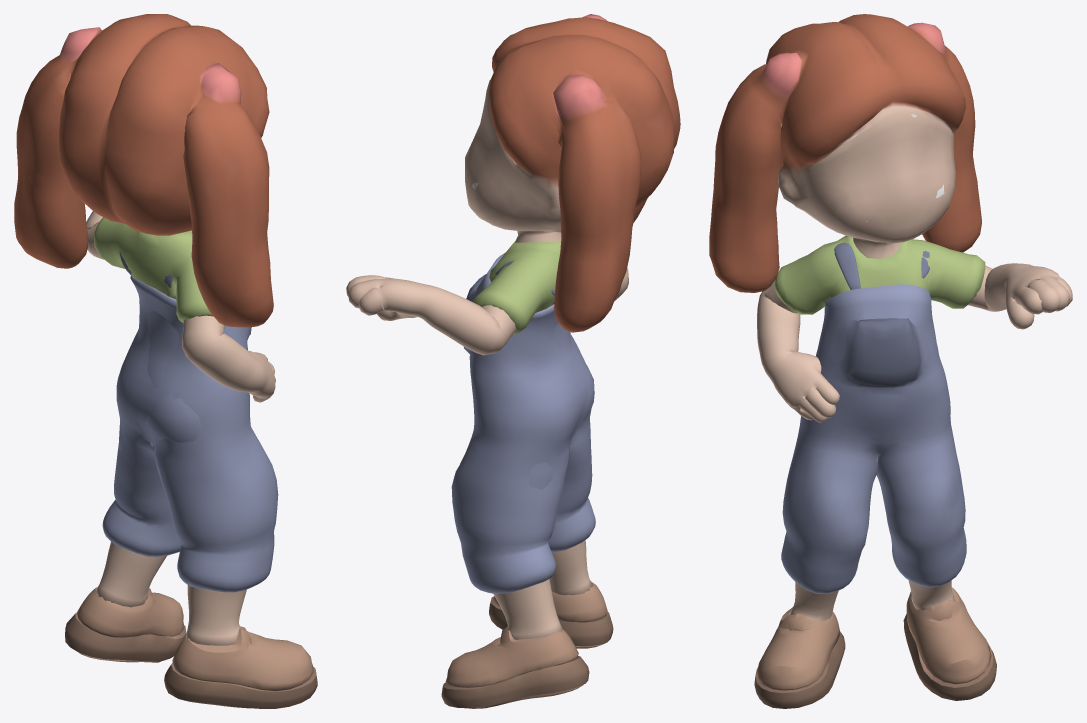
3 renders of one model, left to right at view 1: azimuth 30°, elevation 25°; view 2: azimuth 150°, elevation 25°; view 3: azimuth 270°, elevation 25°, orthographic. The views are drawn at different scales.
Parts seen in each view (by area): view 1: Arms.025; view 2: Arms.025; view 3: Arms.025.
Part boxes in pixels (x1,y1,x2,y2): Arms.025: [14, 14, 317, 708]; Arms.025: [346, 14, 680, 708]; Arms.025: [709, 14, 1072, 708].
Size of the model in its own units: 59.01 by 164 by 84.29.
